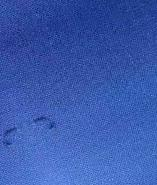knot: (30, 112, 59, 133), (1, 125, 19, 148)
